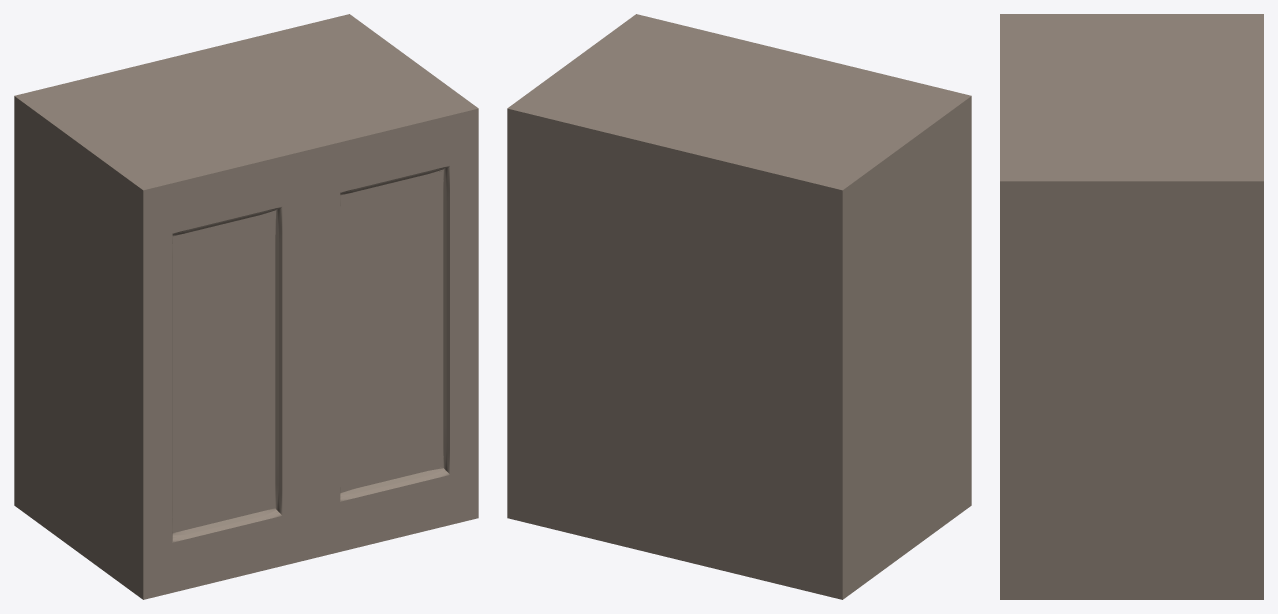
The model's file is Wall-Cabinet-21-High-12-Deep_std_001_W18in.glb.
The picture shows the model from 3 angles, left to right: view 1: azimuth 30°, elevation 25°; view 2: azimuth 150°, elevation 25°; view 3: azimuth 270°, elevation 25°; orthographic projection. The views are drawn at different scales.
Parts seen in each view (by area): view 1: Wall-Cabinet-21-High-12-Deep.std.001_W18in; view 2: Wall-Cabinet-21-High-12-Deep.std.001_W18in; view 3: Wall-Cabinet-21-High-12-Deep.std.001_W18in.
Boxes of the visible parts, x1=… form: Wall-Cabinet-21-High-12-Deep.std.001_W18in: x1=14, y1=14, x2=478, y2=599; Wall-Cabinet-21-High-12-Deep.std.001_W18in: x1=507, y1=14, x2=971, y2=599; Wall-Cabinet-21-High-12-Deep.std.001_W18in: x1=1000, y1=14, x2=1263, y2=599.
Bounding box in the file's own units: 0.4572 × 0.5334 × 0.3048.
